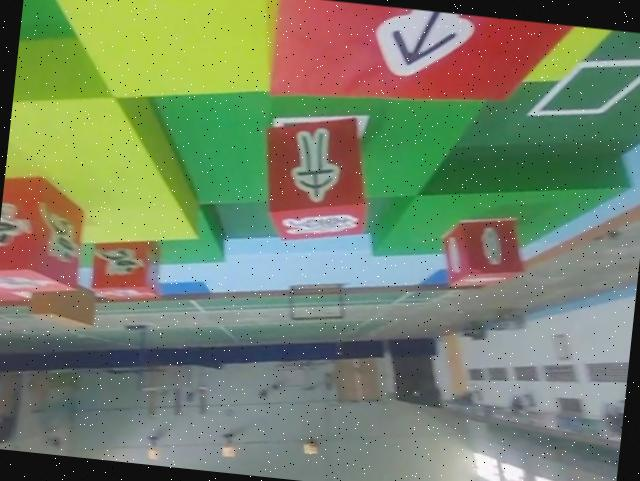R1: (0, 167, 92, 309), (88, 227, 164, 308)
R2 Fake: (252, 105, 383, 251)
R2 Real: (262, 0, 594, 126), (436, 205, 532, 299)
